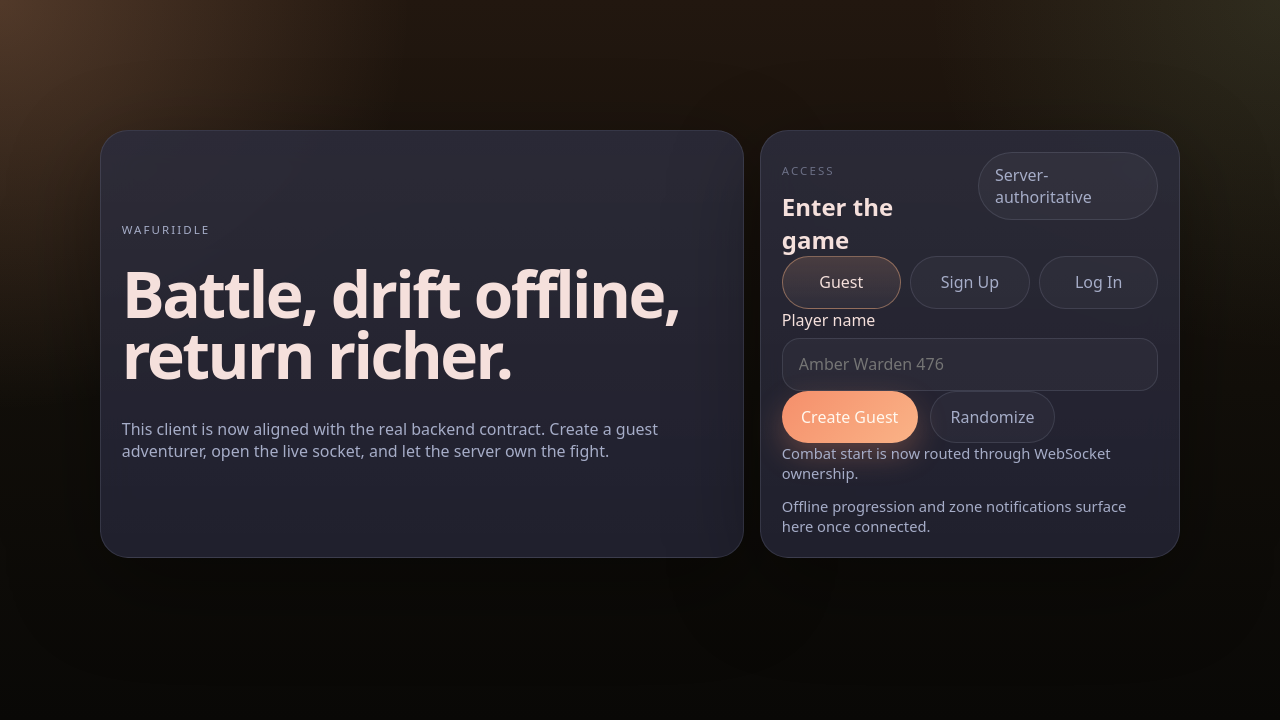
Test: CombatScreen › shows standardized disconnected and empty combat states
Step 1. Type "Scout" into the field labelled "Player name" → (970, 364), box [782,338,1158,391]
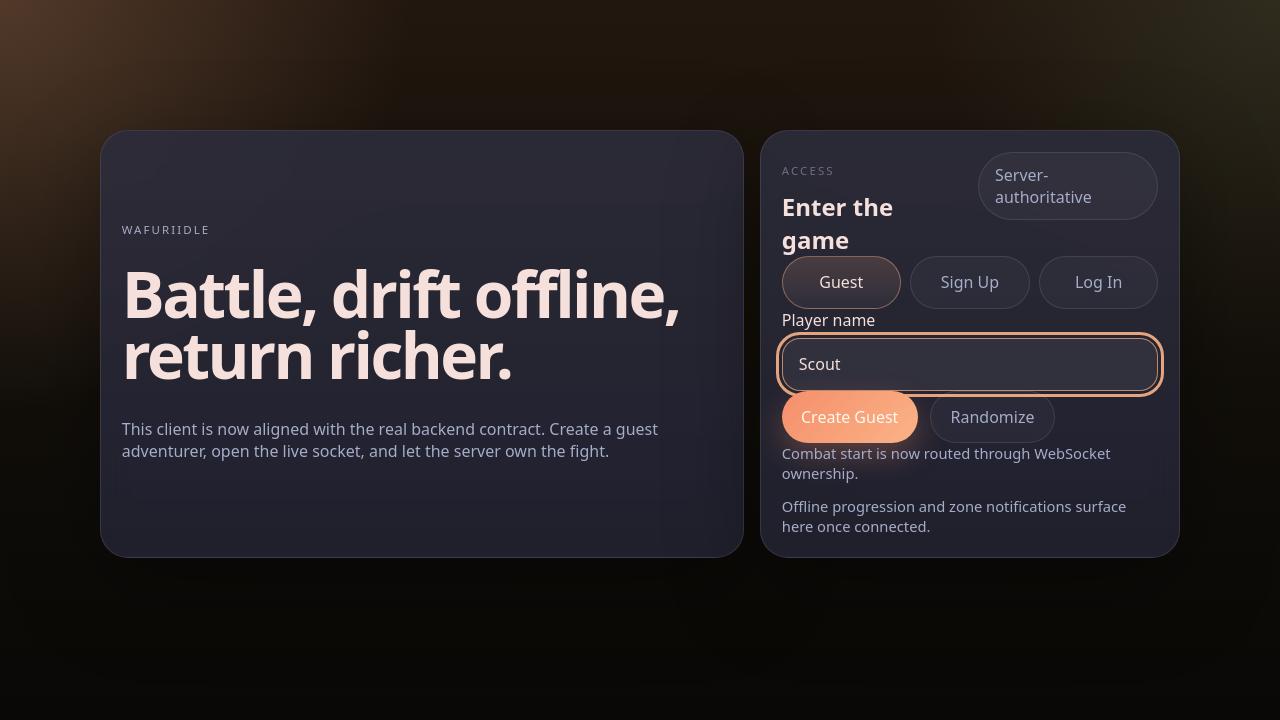
Step 2. Click the button "Create Guest" → click(850, 417), box [782,391,918,443]
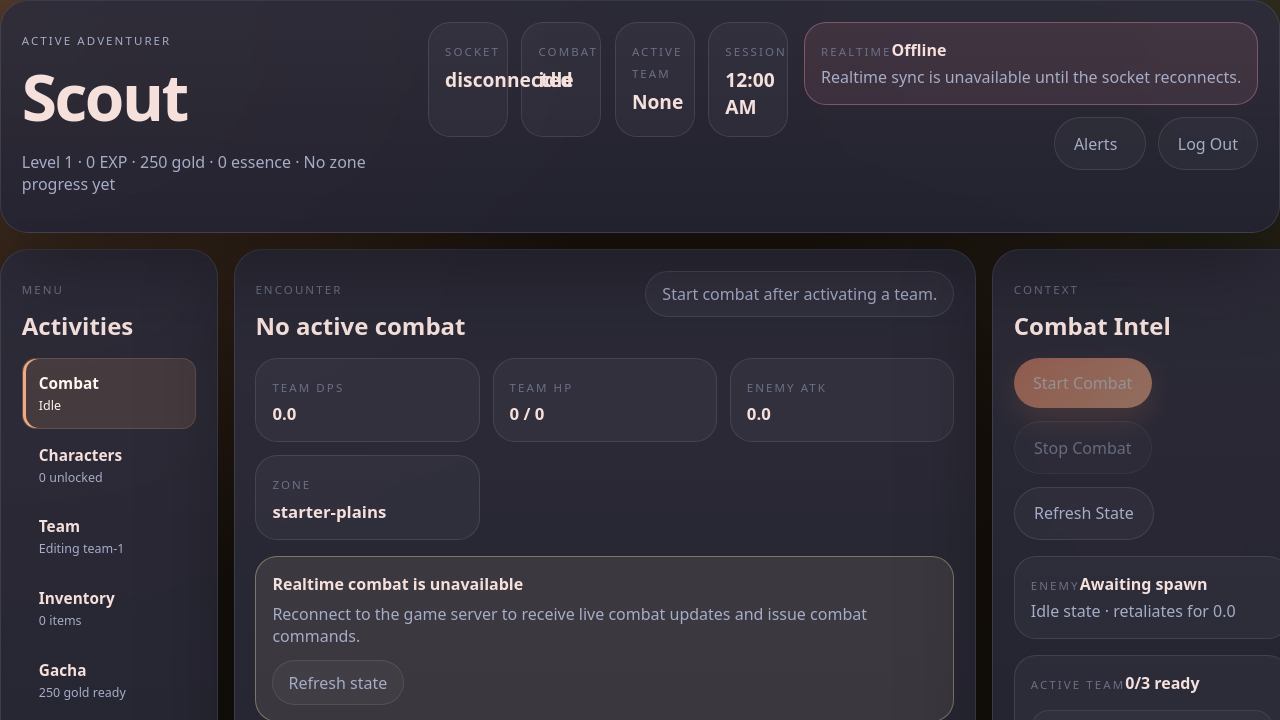
Check: the heading "Scout" is shown, box [22,53,187,140]
Check: the heading "No active combat" is shown, box [255,309,466,342]
Check: the text "Start combat after activating a team to begin receiving live encounter updates." is shown, box [272,603,937,647]
